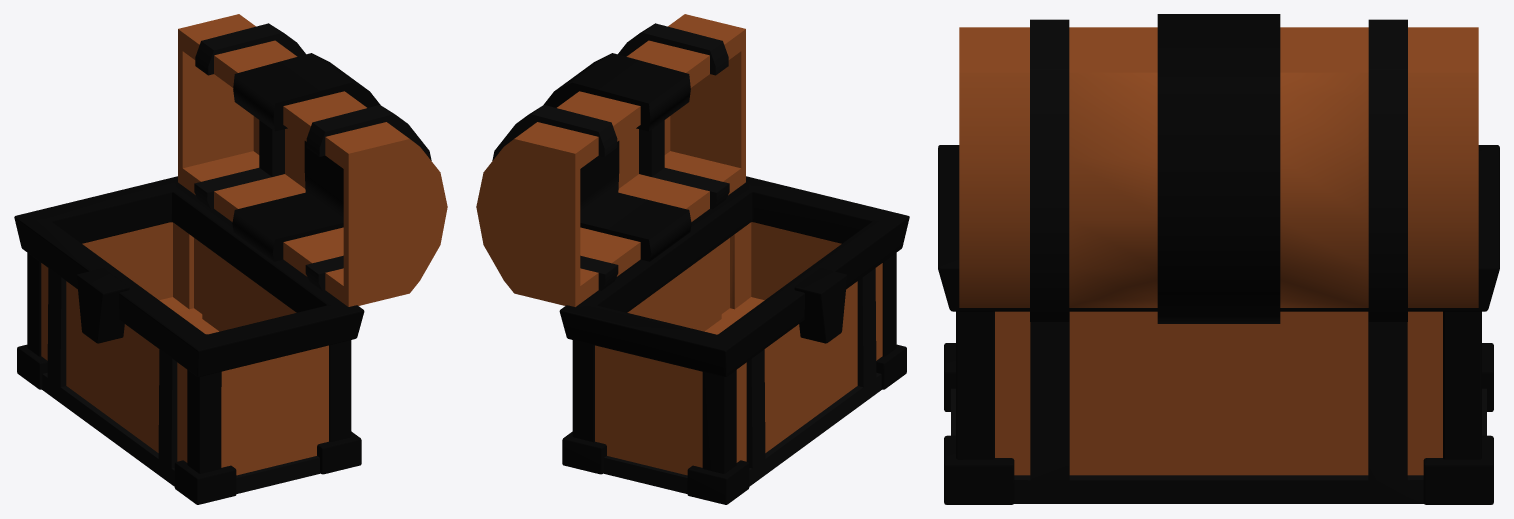
File: Chest.fbx
3 renders of one model, left to right at view 1: azimuth 30°, elevation 25°; view 2: azimuth 150°, elevation 25°; view 3: azimuth 270°, elevation 25°, orthographic. The views are drawn at different scales.
Visible parts, largest first — view 1: btoom, top; view 2: btoom, top; view 3: top, btoom.
Part boxes in pixels (left/top/right/bottom): btoom: left=14, top=176, right=364, bottom=504; top: left=178, top=14, right=447, bottom=306; btoom: left=559, top=176, right=909, bottom=504; top: left=476, top=14, right=745, bottom=306; top: left=959, top=14, right=1478, bottom=323; btoom: left=938, top=145, right=1499, bottom=504.
Bounding box in the file's own units: 392 × 410 × 433.
